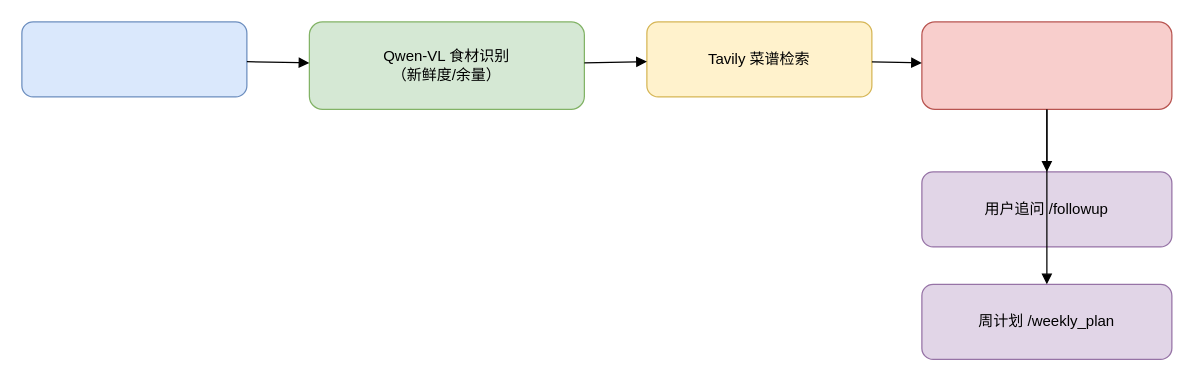
Some shapes in this 1194 by 381 pixel diagram are drawn without their labels. Here are the shapes that lost their labels. From the top down, the box of each, then its label:
(21, 21, 247, 97): 用户输入（图片/URL）
(921, 21, 1172, 109): Qwen 排序评分 输出 Top3 表格
